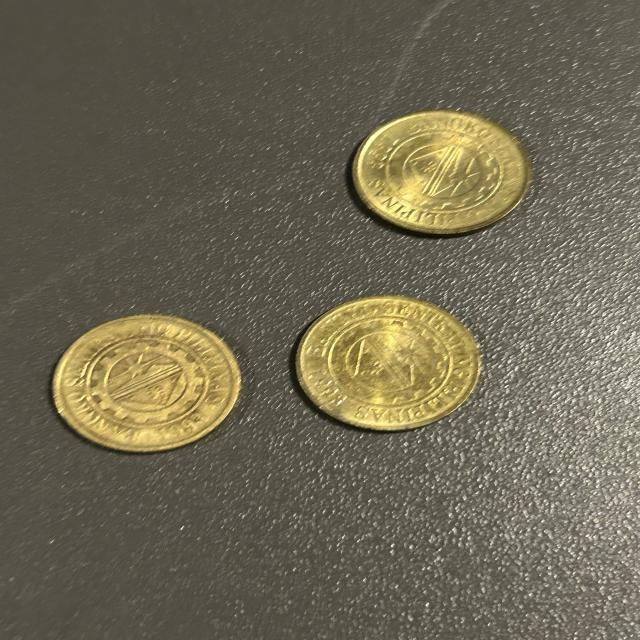25Cent_Old_Back: (81, 324, 239, 435)
